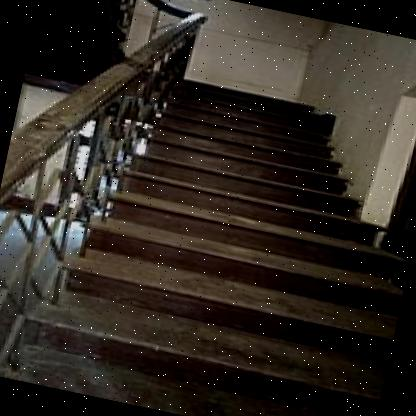stair: (86, 58, 381, 416)
